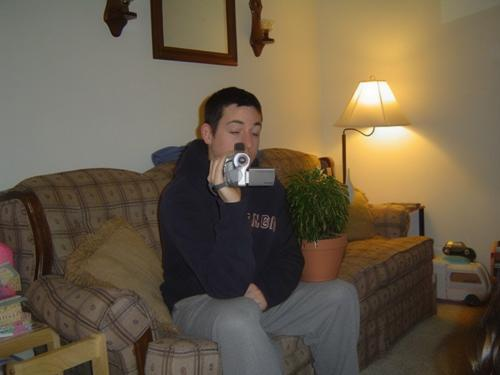person: (158, 84, 363, 373)
person/hand: (208, 152, 243, 202), (245, 283, 267, 310)
person/head: (200, 87, 263, 167)
pottedplant: (284, 169, 349, 284)
sofa: (1, 149, 440, 375)
